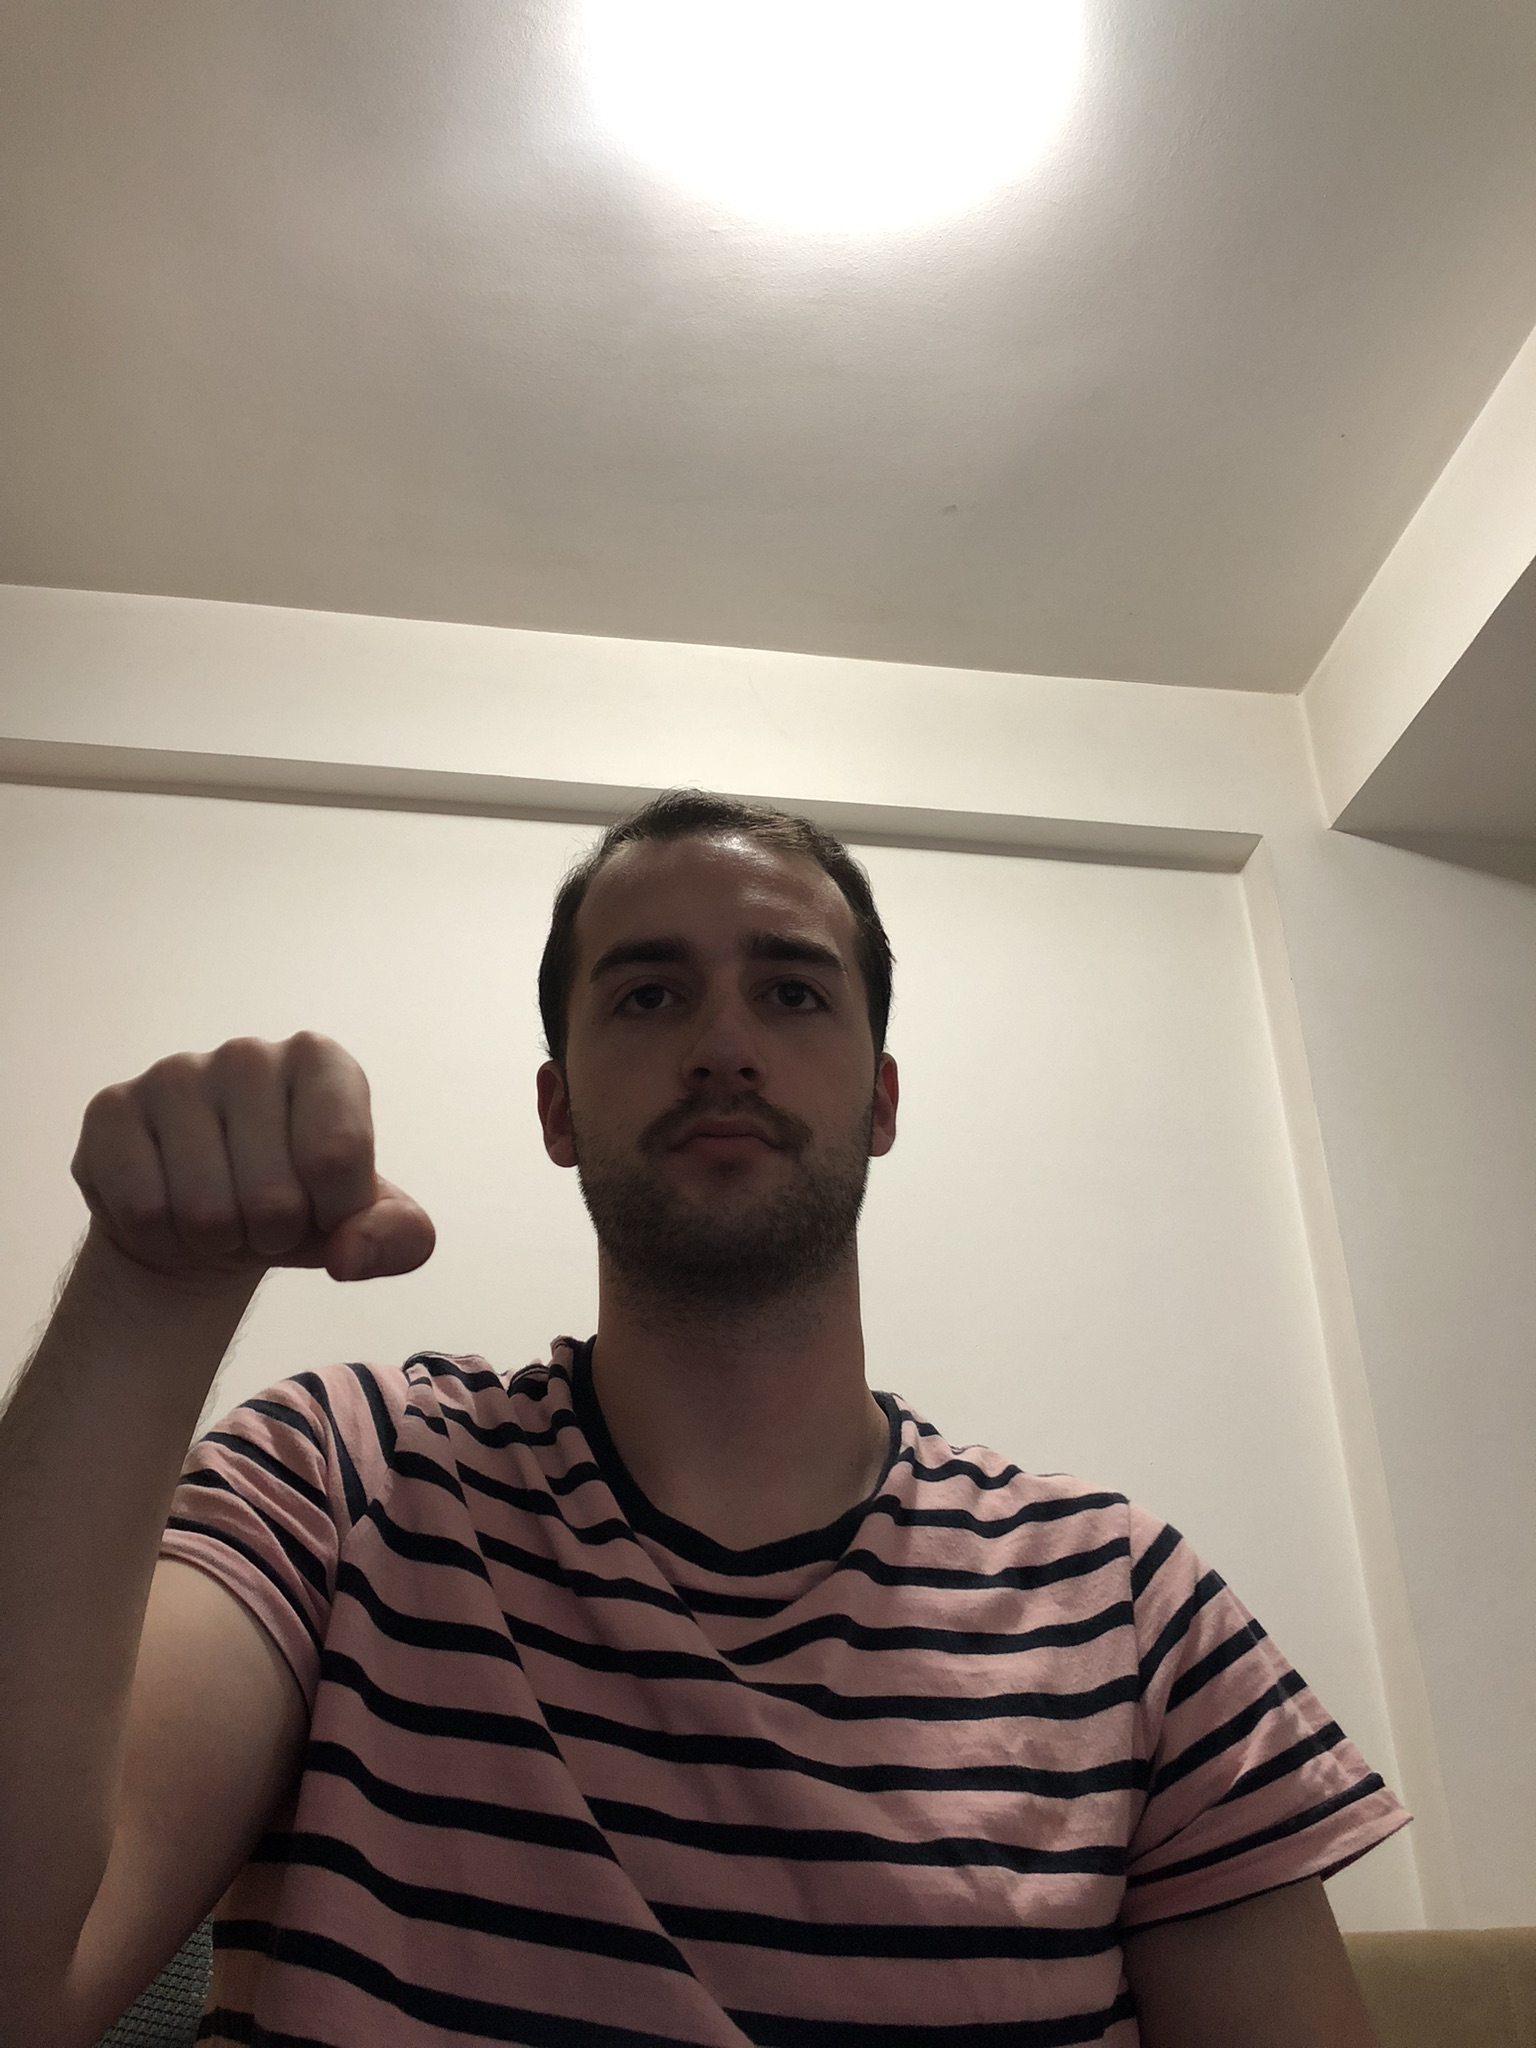Yes: (66, 1021, 444, 1326)
